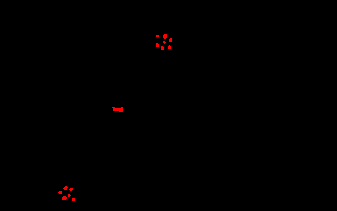Target: (112, 107, 123, 112), (163, 34, 167, 39), (63, 186, 68, 190), (62, 196, 67, 200), (169, 38, 172, 42), (156, 43, 159, 47), (168, 45, 171, 49), (161, 46, 164, 50), (69, 188, 73, 191), (58, 191, 62, 194), (163, 41, 166, 44), (68, 194, 71, 197), (72, 198, 75, 201), (156, 35, 159, 37)
